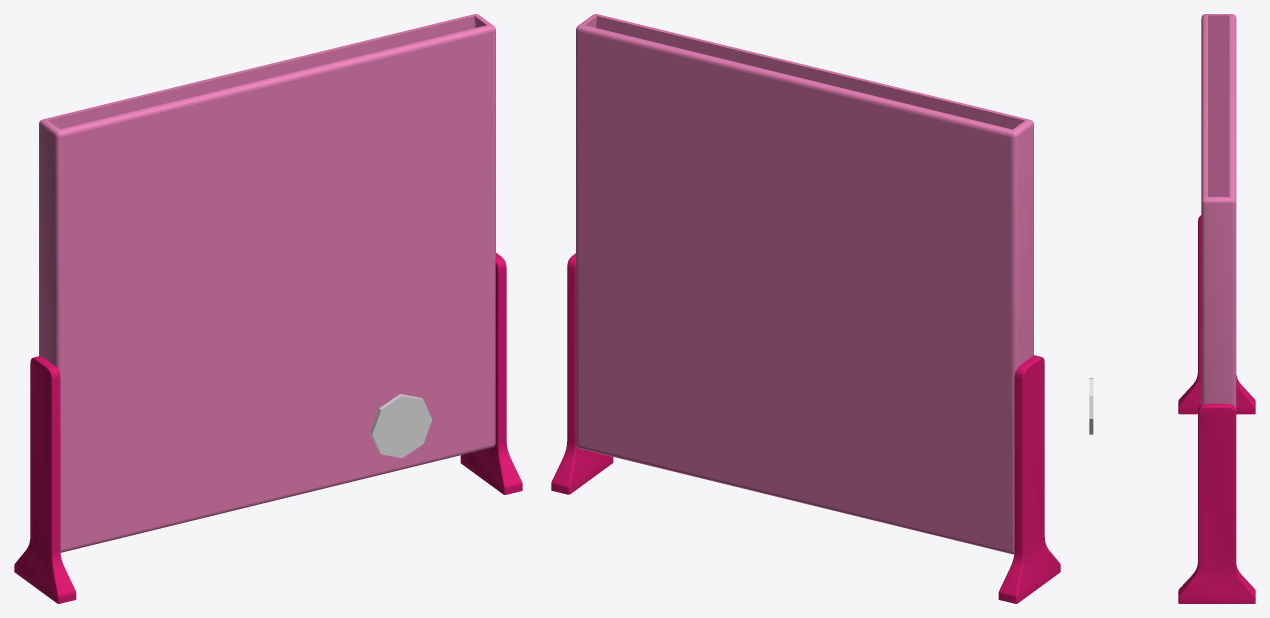
Rendered from Connect_4.fbx.
3 views of the same model, side by side, from view 1: azimuth 30°, elevation 25°; view 2: azimuth 150°, elevation 25°; view 3: azimuth 270°, elevation 25° (orthographic). The views are drawn at different scales.
Visible parts, largest first — view 1: Connect_4_LP, Coin; view 2: Connect_4_LP; view 3: Connect_4_LP, Coin.
Boxes of the visible parts, bbox=[...] form: Connect_4_LP: bbox=[14, 14, 522, 603]; Coin: bbox=[370, 394, 432, 458]; Connect_4_LP: bbox=[551, 14, 1060, 603]; Connect_4_LP: bbox=[1178, 14, 1255, 603]; Coin: bbox=[1089, 378, 1093, 434].
Bounding box in the file's own units: 107 × 101 × 38.16.
